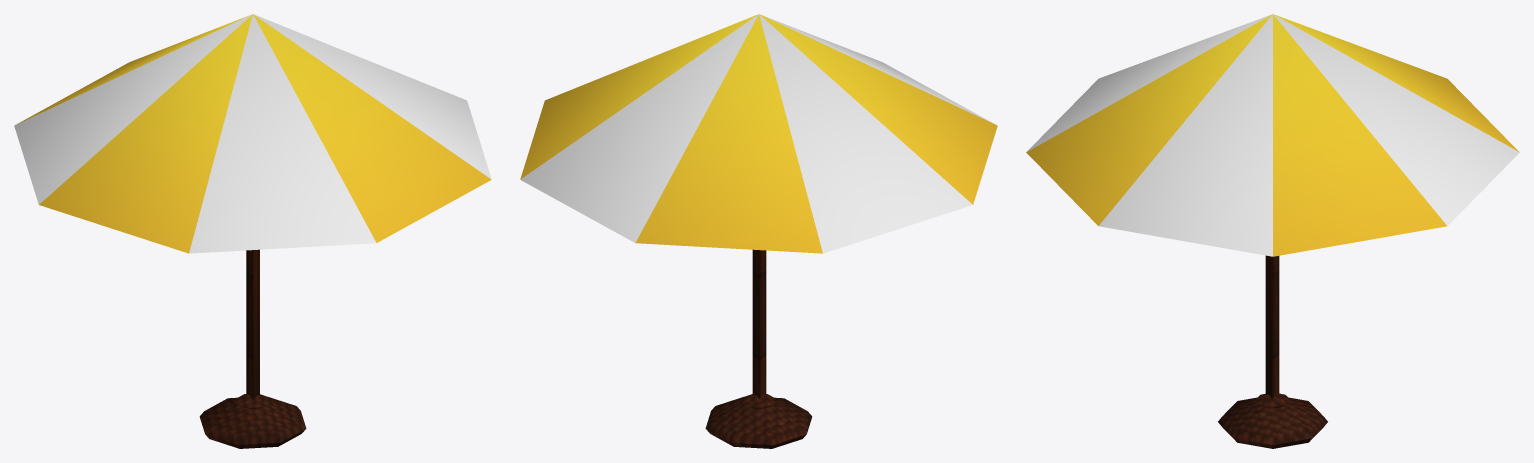
File: Rattan_BeachUnmbrella_04.FBX
3 renders of one model, left to right at view 1: azimuth 30°, elevation 25°; view 2: azimuth 150°, elevation 25°; view 3: azimuth 270°, elevation 25°, orthographic.
Parts seen in each view (by area): view 1: Rattan_BeachUnmbrella_04; view 2: Rattan_BeachUnmbrella_04; view 3: Rattan_BeachUnmbrella_04.
Boxes of the visible parts, <box> form: Rattan_BeachUnmbrella_04: <box>14,14,491,448</box>; Rattan_BeachUnmbrella_04: <box>520,14,997,448</box>; Rattan_BeachUnmbrella_04: <box>1026,14,1519,448</box>.
Size of the model in its own units: 3.04 by 3.04 by 2.81.
